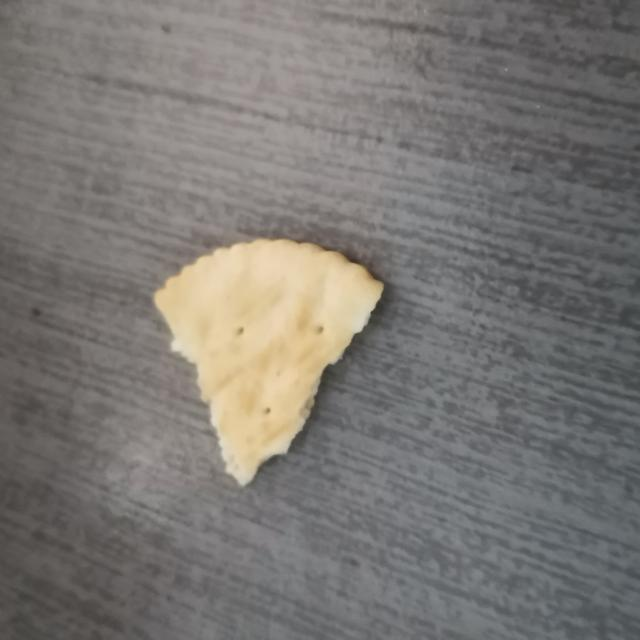Broken: (152, 236, 385, 488)
